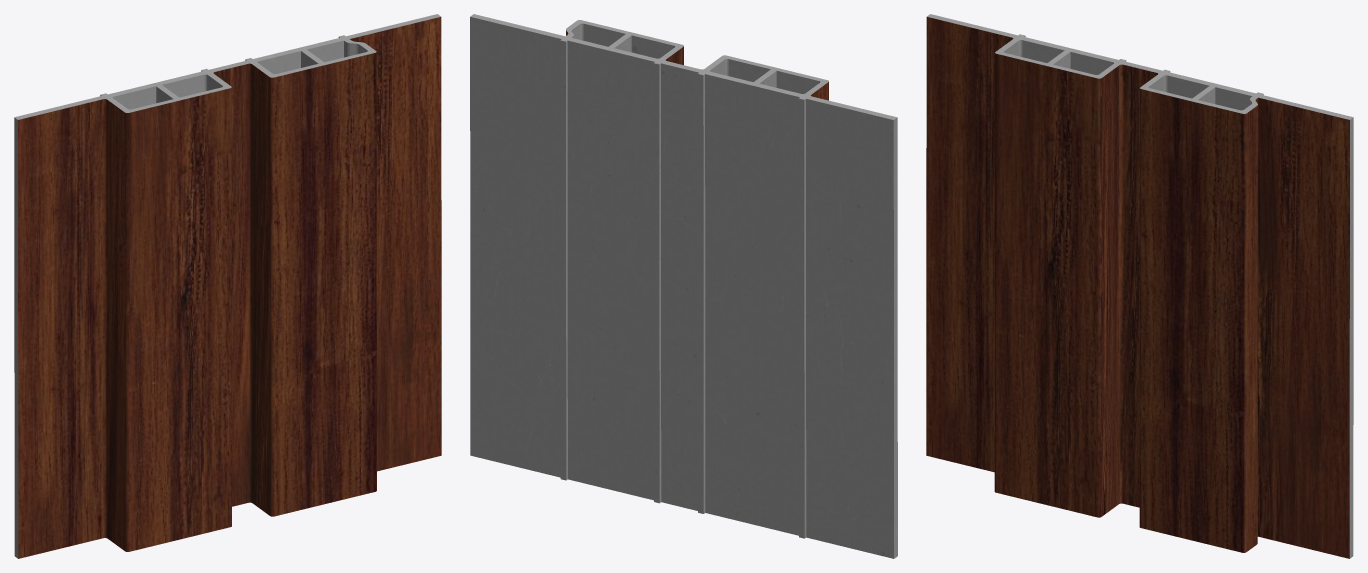
The model's file is 2bolmelitamkaplamali.glb.
3 renders of one model, left to right at view 1: azimuth 30°, elevation 25°; view 2: azimuth 150°, elevation 25°; view 3: azimuth 330°, elevation 25°, orthographic.
Parts seen in each view (by area): view 1: Plane.008; view 2: Plane.008; view 3: Plane.008.
Part boxes in pixels (<box>): Plane.008: <box>14,14,441,558</box>; Plane.008: <box>470,14,897,558</box>; Plane.008: <box>926,14,1353,558</box>.
Size of the model in its own units: 8.1 by 8.03 by 0.8706.
Materials: 2 (2 with a texture image).
